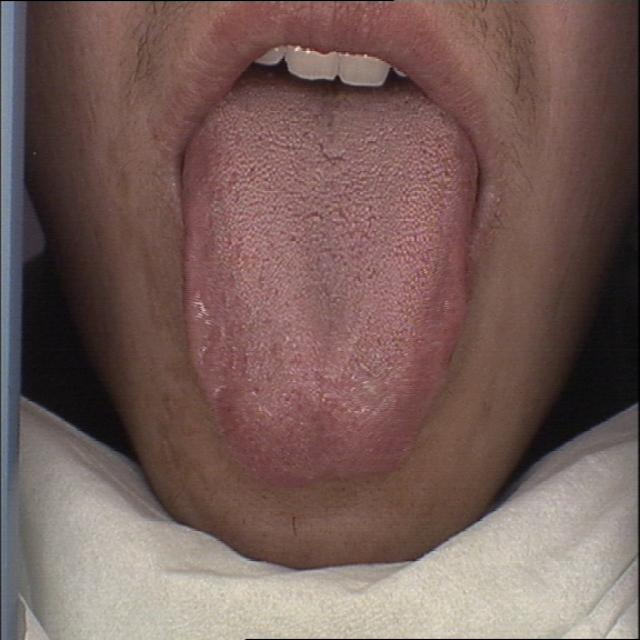tongue: (181, 86, 479, 489)
